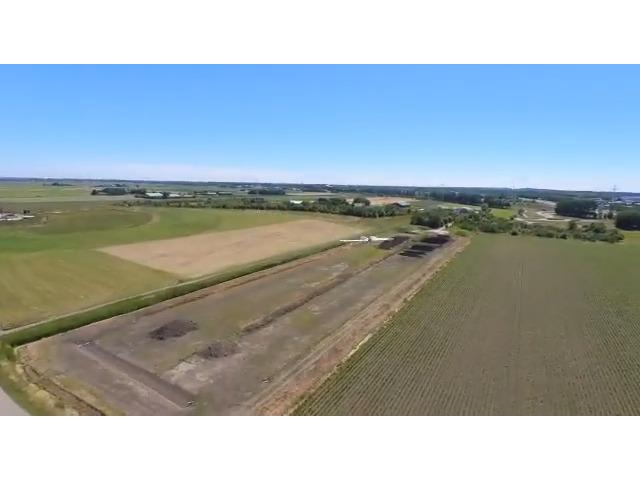Anti-Drone: (331, 230, 405, 248)
